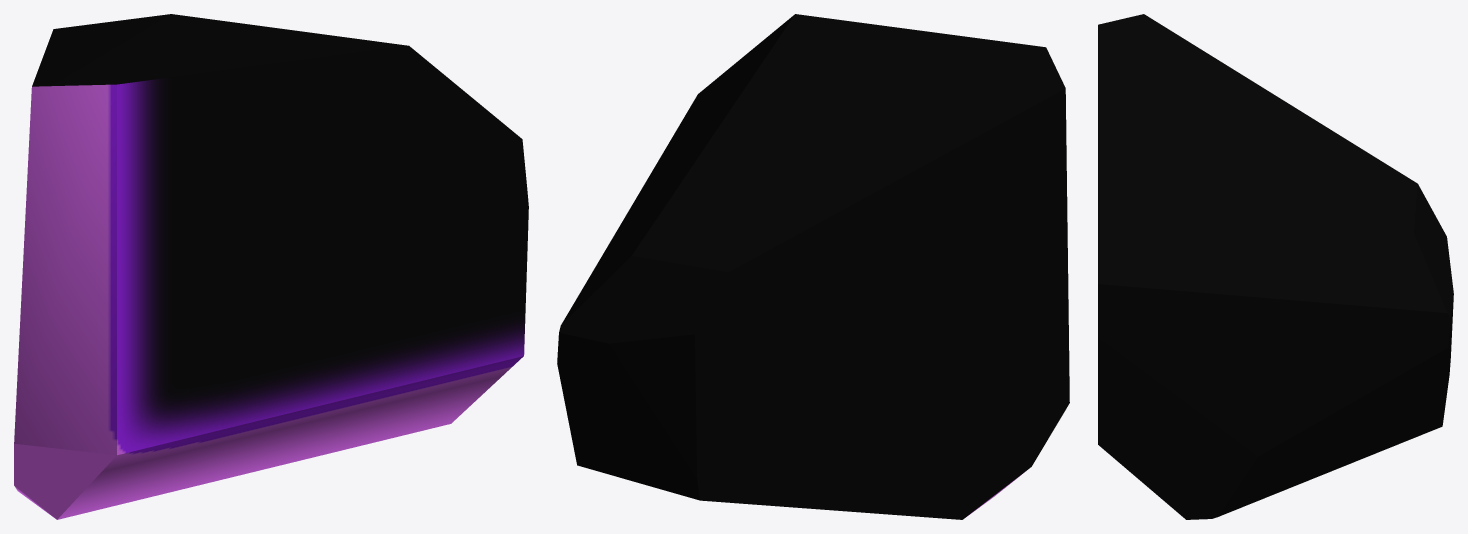
File: blockParticle_16.obj
3 renders of one model, left to right at view 1: azimuth 30°, elevation 25°; view 2: azimuth 150°, elevation 25°; view 3: azimuth 270°, elevation 25°, orthographic. The views are drawn at different scales.
Visible parts, largest first — view 1: 立方体_cell.018; view 2: 立方体_cell.018; view 3: 立方体_cell.018.
Boxes of the visible parts, box(x1,y1,x2,y2) form: 立方体_cell.018: box(14, 14, 528, 519); 立方体_cell.018: box(557, 14, 1069, 519); 立方体_cell.018: box(1098, 14, 1453, 519).
Bounding box in the file's own units: 0.9766 × 0.9372 × 0.8551.
Materials: 2 (2 with a texture image).
